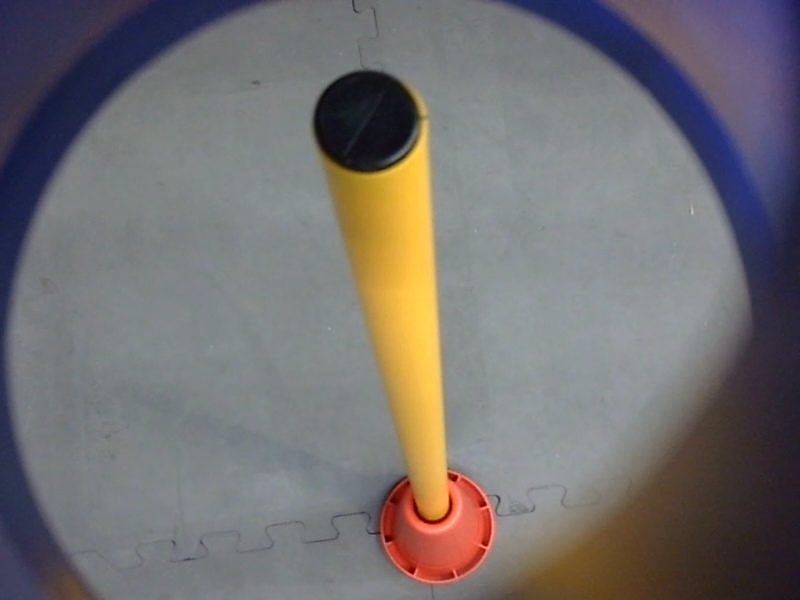tip: (296, 56, 437, 189)
